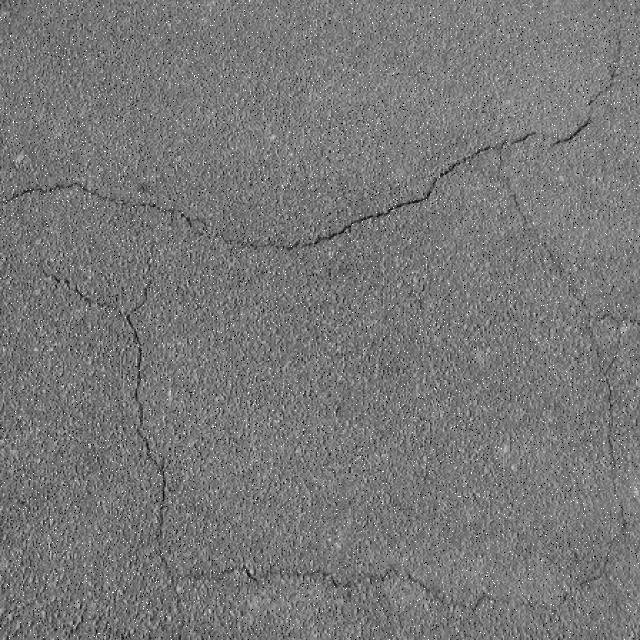Crack: (0, 131, 640, 639), (550, 38, 622, 149)
